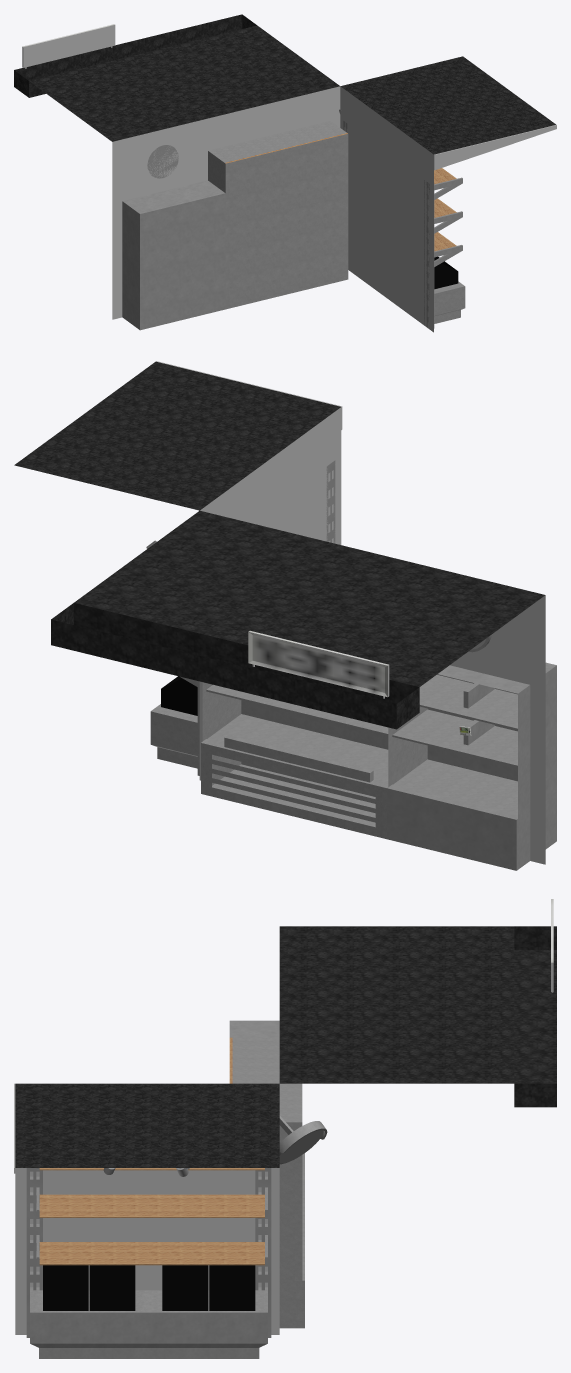
File: shelves.fbx
The picture shows the model from 3 angles, top to bottom: view 1: azimuth 30°, elevation 25°; view 2: azimuth 150°, elevation 25°; view 3: azimuth 270°, elevation 25°; orthographic projection. The views are drawn at different scales.
Visible parts, largest first — view 1: Wall (×2), Fridge, Snacky, Sign, pCube3, pCube6, Clock, MetalRailing, Basket3; view 2: Wall (×2), Snacky, Fridge, Layer4 (×2), Layer1 (×2), Sign, Layer2, pCube6, Boarder, Basket1, MetalRailing; view 3: Wall (×2), pCube6, pCube5 (×3), Fridge, Basket1, Basket2, Basket4, Basket3, MetalRailing, MetalRailing1, Mirror, Snacky.
Part boxes in pixels (x1,y1,x2,y2): Wall (×2): (14,14,555,332); Fridge: (208,121,348,309); Snacky: (122,180,225,330); Sign: (22,24,115,67); pCube3: (434,125,556,170); pCube6: (434,281,465,323); Clock: (147,145,178,178); MetalRailing: (424,180,434,328); Basket3: (434,257,458,289); Wall (×2): (14,361,545,864); Snacky: (387,662,556,870); Fridge: (201,682,388,839); Layer4 (×2): (207,714,556,817); Layer1 (×2): (206,684,556,767); Sign: (248,630,389,697); Layer2: (419,675,556,730); pCube6: (150,704,197,768); Boarder: (224,735,373,782); Basket1: (161,676,197,715); MetalRailing: (326,460,335,543); Wall (×2): (15,926,556,1334); pCube6: (30,1290,267,1358); pCube5 (×3): (39,1168,264,1265); Fridge: (229,1037,304,1328); Basket1: (209,1265,255,1310); Basket2: (89,1265,135,1310); Basket4: (162,1265,208,1310); Basket3: (43,1265,88,1310); MetalRailing: (26,1168,42,1337); MetalRailing1: (255,1168,271,1337); Mirror: (279,1121,327,1164); Snacky: (229,1020,304,1195).
Size of the model in its own units: 506 by 277 by 480.
Materials: 5 (3 with a texture image).
